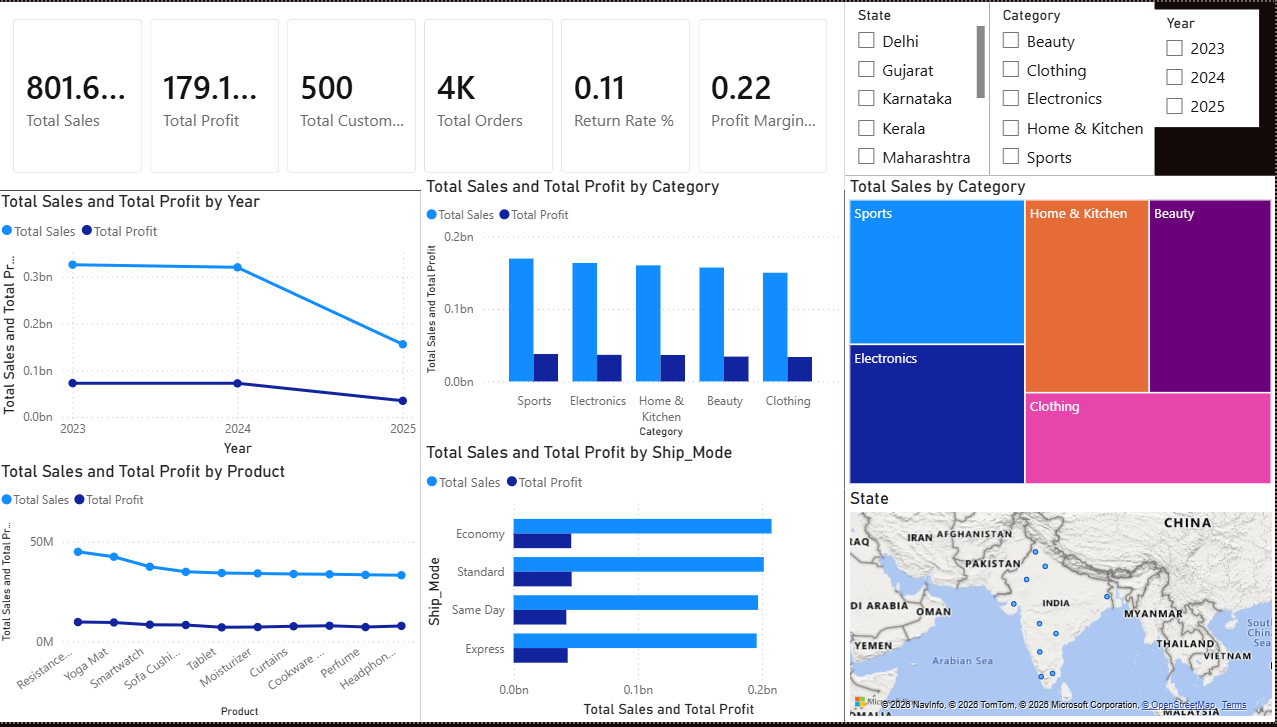

The page's visual inventory and layout, read from the dashboard file:
{"tool":"powerbi","page":{"name":" Page 1","canvas":[1280,720],"ordinal":0},"visuals":[{"type":"cardVisual","fields":{"Data":["DateTable.Total Sales","DateTable.Total Profit","DateTable.Total Customers","DateTable.Total Orders","DateTable.Return Rate %","DateTable.Profit Margin %"]},"box":[0,0,848.8,188.4],"z":0},{"type":"lineChart","fields":{"Category":["DateTable.Date.Variation.Date Hierarchy.Year","DateTable.Date.Variation.Date Hierarchy.Quarter","DateTable.Date.Variation.Date Hierarchy.Month","DateTable.Date.Variation.Date Hierarchy.Day"],"Y":["DateTable.Total Sales","DateTable.Total Profit"]},"box":[0,188.3,425,270],"z":1000},{"type":"clusteredColumnChart","fields":{"Category":["retail_sales_data (1).Category"],"Y":["DateTable.Total Sales","DateTable.Total Profit"]},"box":[425,173.3,423.3,266.7],"z":2000},{"type":"lineChart","fields":{"Category":["retail_sales_data (1).Product"],"Y":["DateTable.Total Sales","DateTable.Total Profit"]},"box":[0,458.3,425,261.7],"z":3000},{"type":"treemap","fields":{"Group":["retail_sales_data (1).Category"],"Values":["DateTable.Total Sales"]},"box":[848.3,173.3,431.7,313.3],"z":4000},{"type":"clusteredBarChart","fields":{"Category":["retail_sales_data (1).Ship_Mode"],"Y":["DateTable.Total Sales","DateTable.Total Profit"]},"box":[425,440,423.3,280],"z":5000},{"type":"map","fields":{"Category":["retail_sales_data (1).State"]},"box":[848.3,486.7,431.7,233.3],"z":6000},{"type":"slicer","fields":{"Values":["retail_sales_data (1).State"]},"box":[848.3,0,145,173.3],"z":7000},{"type":"slicer","fields":{"Values":["retail_sales_data (1).Category"]},"box":[993.3,0,164.4,173.3],"z":8000},{"type":"slicer","fields":{"Values":["DateTable.Year"]},"box":[1157.8,7.8,105.6,117.8],"z":9000}]}

Visuals, with their boxes in screenshot pixels (x1, y1, x2, y2), scaled from the page's 1280x720 canvas onto the 1277x727 screenshot:
cardVisual - DateTable.Total Sales x DateTable.Total Profit: [left=0, top=0, right=847, bottom=190]
lineChart - DateTable.Date.Variation.Date Hierarchy.Year x DateTable.Date.Variation.Date Hierarchy.Quarter: [left=0, top=190, right=424, bottom=463]
clusteredColumnChart - retail_sales_data (1).Category x DateTable.Total Sales: [left=424, top=175, right=846, bottom=444]
lineChart - retail_sales_data (1).Product x DateTable.Total Sales: [left=0, top=463, right=424, bottom=726]
treemap - retail_sales_data (1).Category x DateTable.Total Sales: [left=846, top=175, right=1276, bottom=491]
clusteredBarChart - retail_sales_data (1).Ship_Mode x DateTable.Total Sales: [left=424, top=444, right=846, bottom=726]
map - retail_sales_data (1).State: [left=846, top=491, right=1276, bottom=726]
slicer - retail_sales_data (1).State: [left=846, top=0, right=991, bottom=175]
slicer - retail_sales_data (1).Category: [left=991, top=0, right=1155, bottom=175]
slicer - DateTable.Year: [left=1155, top=8, right=1260, bottom=127]
